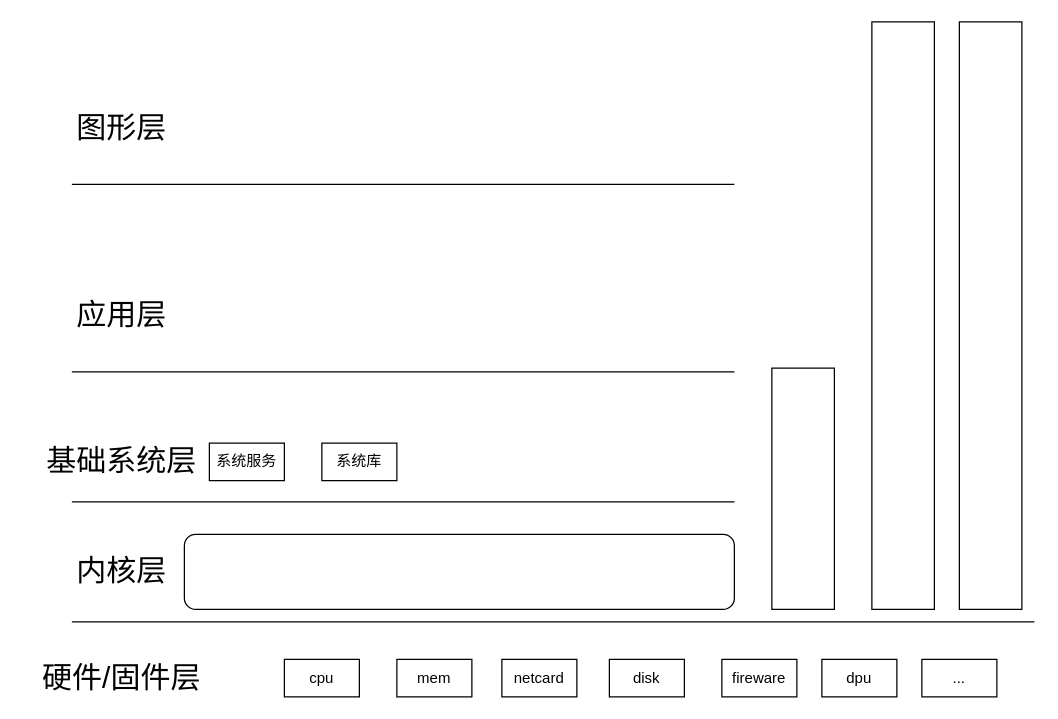
Some shapes in this 1058 by 719 pixel diagram are drawn without their labels. The box of each missing label's shape, as (x1, y1, x2, y2) in pixels:
安装启动: (771, 367, 834, 609)
工具链: (958, 21, 1022, 609)
编程语言: (871, 21, 934, 609)
